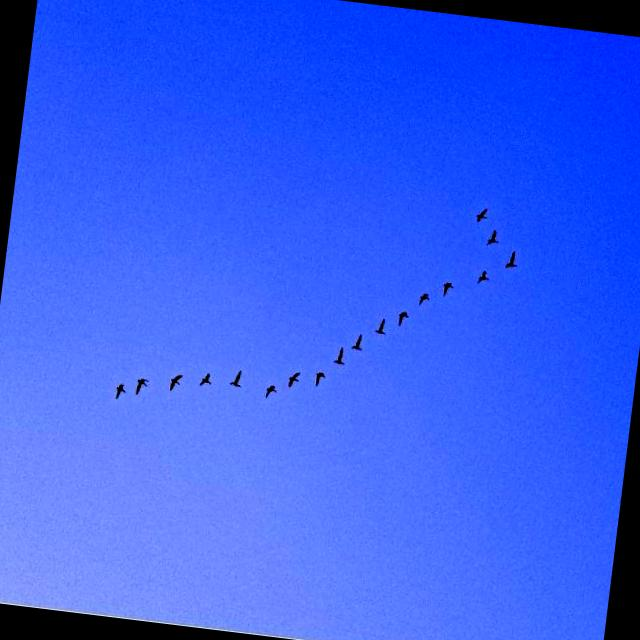bird: (500, 246, 528, 274), (469, 264, 494, 290), (371, 311, 388, 341), (468, 202, 489, 226), (164, 368, 184, 393), (328, 344, 348, 368), (226, 364, 243, 392), (196, 366, 214, 392), (283, 366, 302, 390), (134, 372, 151, 398), (410, 286, 432, 306), (484, 225, 502, 249), (350, 332, 368, 356), (114, 378, 130, 404), (262, 377, 278, 402), (310, 365, 326, 387), (439, 276, 456, 296), (394, 310, 409, 329)
